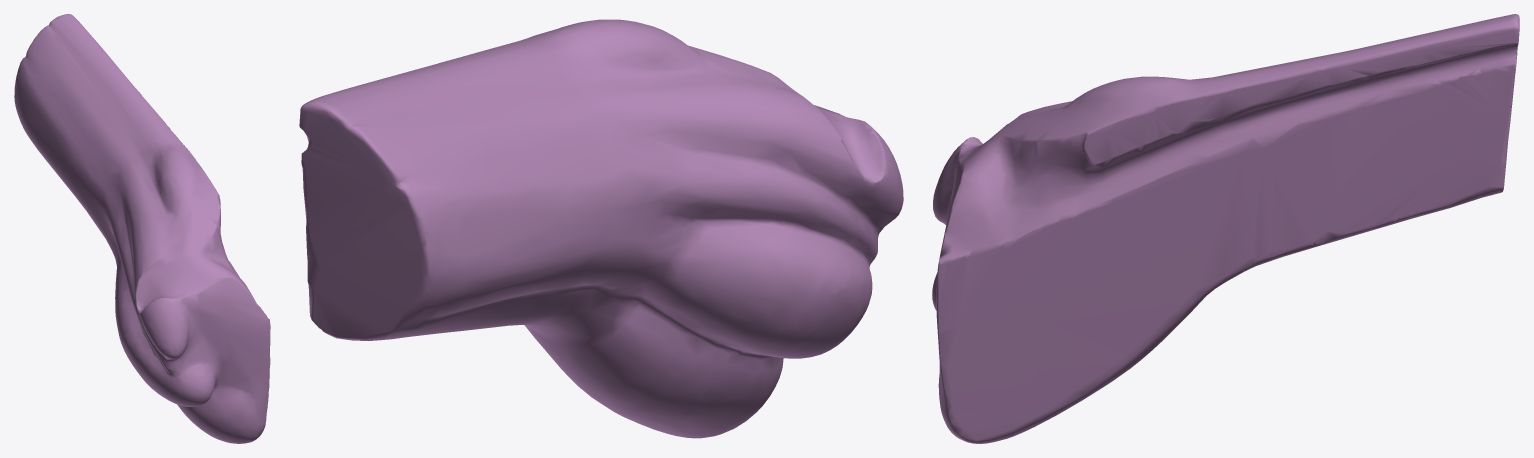
3 renders of one model, left to right at view 1: azimuth 30°, elevation 25°; view 2: azimuth 150°, elevation 25°; view 3: azimuth 270°, elevation 25°, orthographic. The views are drawn at different scales.
Parts seen in each view (by area): view 1: 右侧延髓; view 2: 右侧延髓; view 3: 右侧延髓.
Part boxes in pixels (left/top/right/bottom): 右侧延髓: left=14, top=14, right=270, bottom=443; 右侧延髓: left=299, top=19, right=903, bottom=438; 右侧延髓: left=932, top=14, right=1519, bottom=443.
Size of the model in its own units: 0.0191 by 0.0475 by 0.059.
